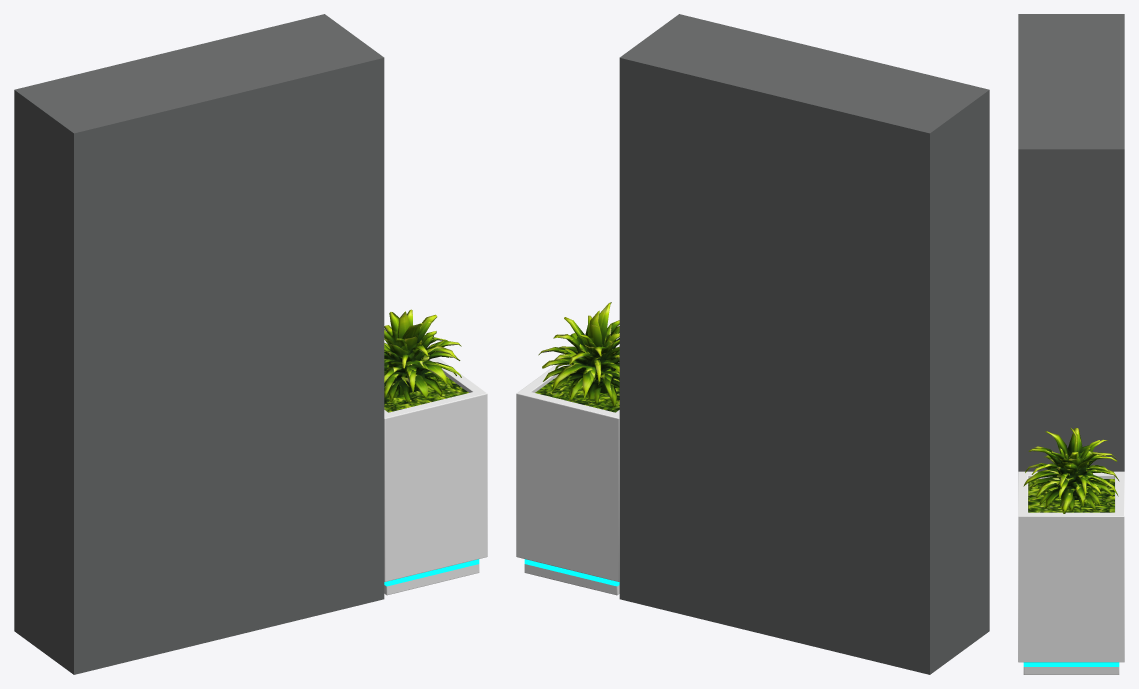
File: PartitionEndCap.fbx
3 renders of one model, left to right at view 1: azimuth 30°, elevation 25°; view 2: azimuth 150°, elevation 25°; view 3: azimuth 270°, elevation 25°, orthographic. The views are drawn at different scales.
Visible parts, largest first — view 1: PartitionEndCap, PartitionEndCapPlant; view 2: PartitionEndCap, PartitionEndCapPlant; view 3: PartitionEndCap, PartitionEndCapPlant.
Part boxes in pixels (<box>): PartitionEndCap: <box>14,14,487,674</box>; PartitionEndCapPlant: <box>384,309,468,412</box>; PartitionEndCap: <box>516,14,989,674</box>; PartitionEndCapPlant: <box>535,302,619,412</box>; PartitionEndCap: <box>1018,14,1124,674</box>; PartitionEndCapPlant: <box>1023,428,1119,513</box>.
Size of the model in its own units: 120 by 150 by 30.
Materials: 2 (2 with a texture image).
